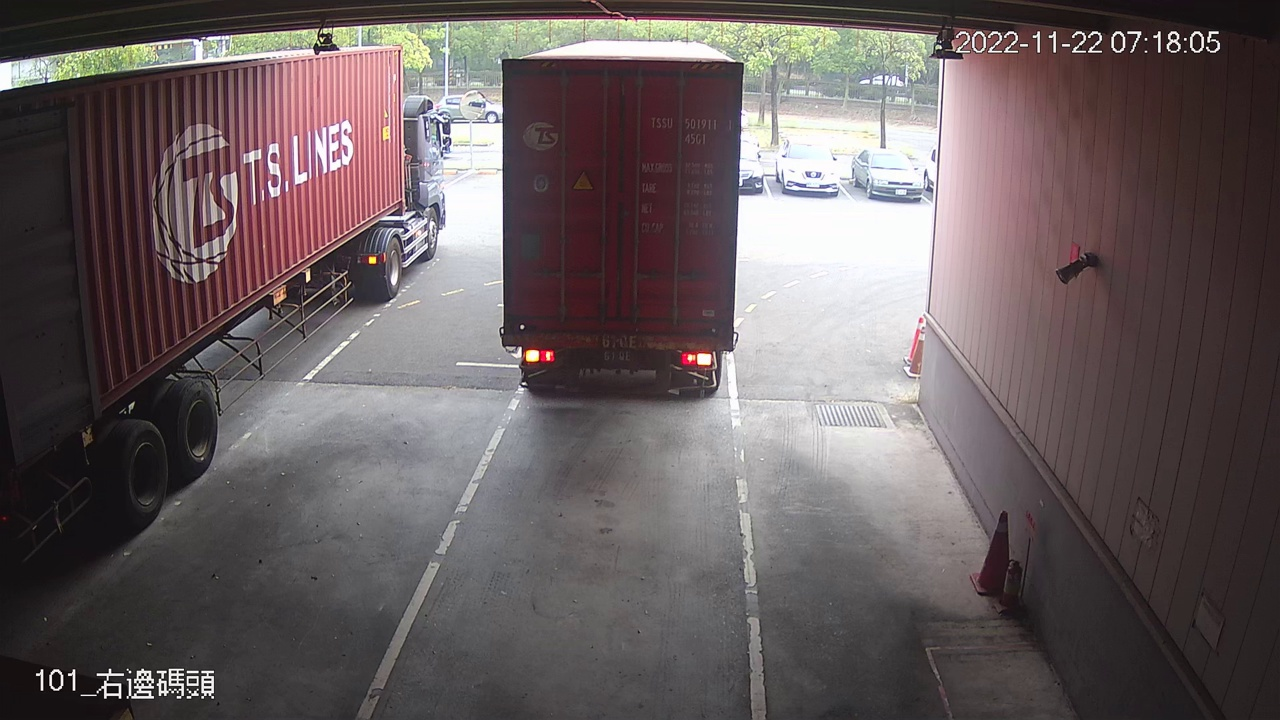container: (645, 111, 738, 151)
